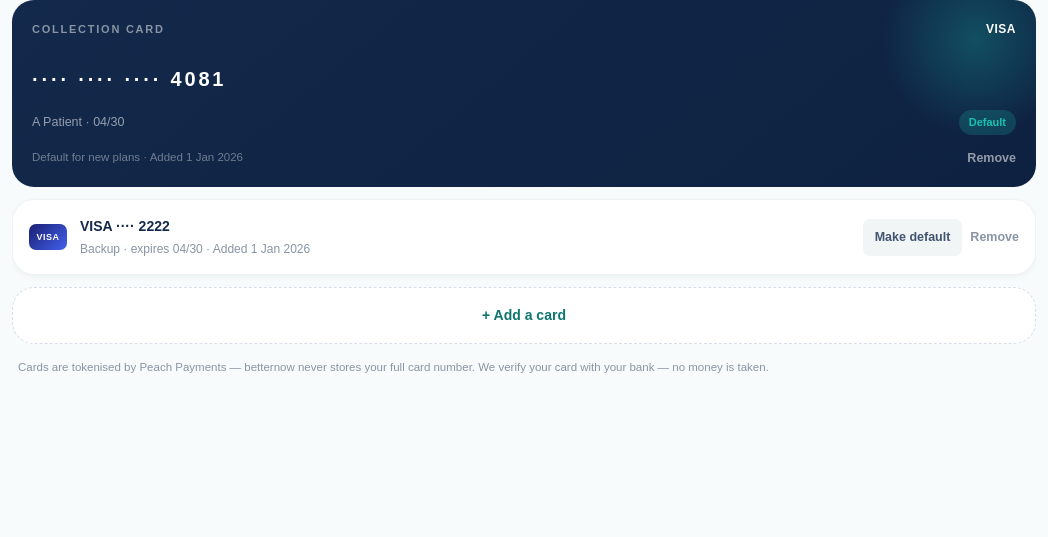
Test case: RULE 2 — delete guard › a card not collecting any active plan can be removed (archive) — copy mentions the retained reference
The image size is (1048, 537).
Click the button with test id "remove-card-b".
click(995, 237)  # box [970,228,1019,247]
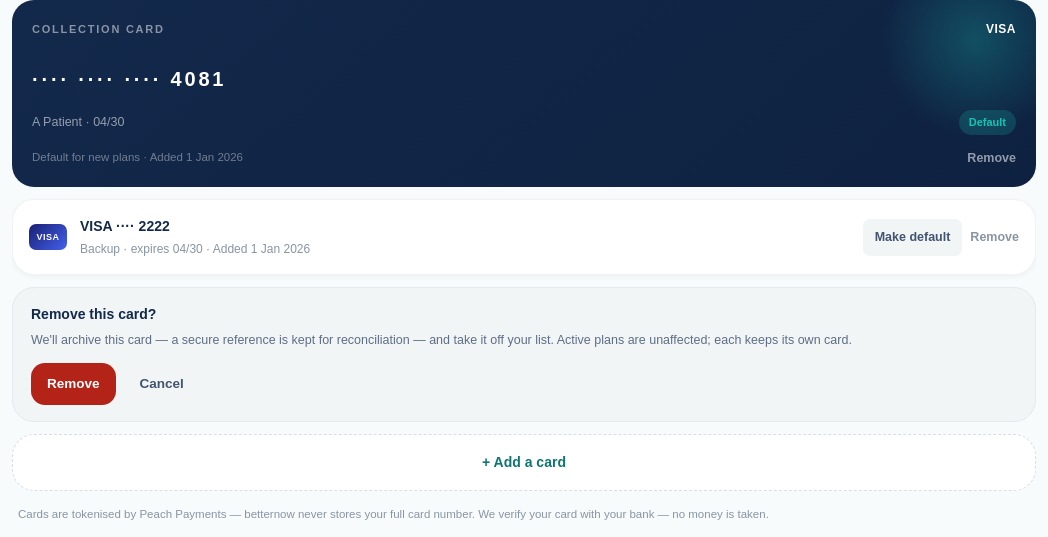
expect the text "Remove this card?" is shown: met, box [31,306,156,322]
expect the text "secure reference is kept for reconciliation" is shown: met, box [31,333,852,347]
Click the button with test id "confirm-remove".
click(73, 384)  # box [31,363,116,405]
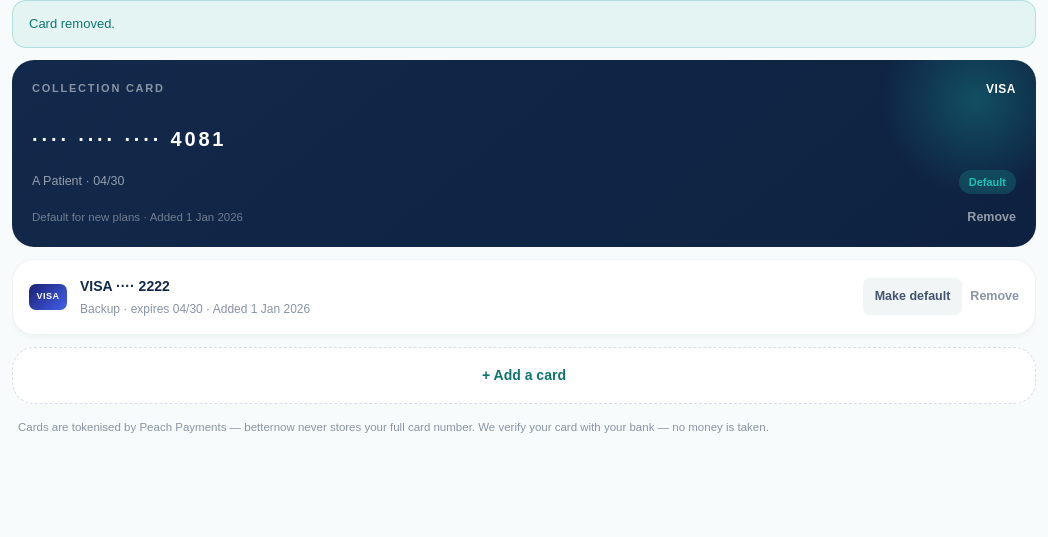
expect the text "Card removed." is shown: met, box [12,0,1036,48]
